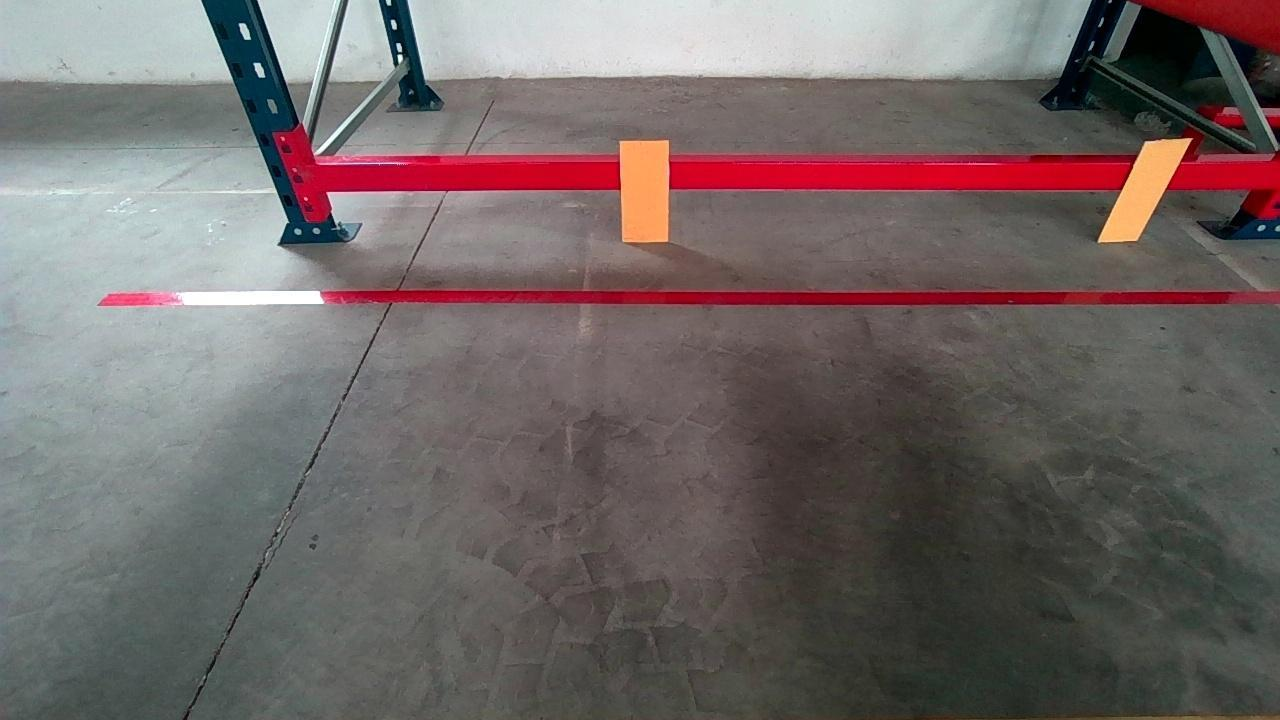h_rack: (317, 161, 1280, 193)
orange_strip: (1099, 139, 1190, 240), (620, 139, 670, 241)
red_line: (98, 287, 1280, 308)
